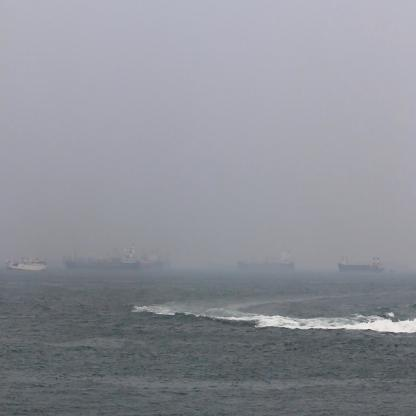Container Ship: (63, 243, 138, 274), (236, 250, 295, 274), (336, 256, 385, 274), (3, 255, 46, 272), (150, 248, 170, 271), (138, 252, 148, 271)
